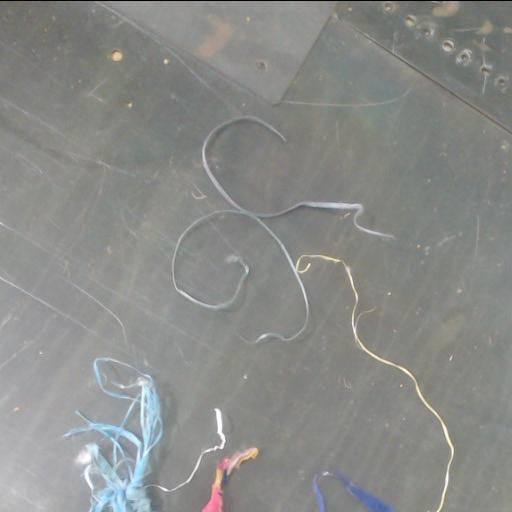cloth: (202, 448, 258, 512)
conveyor belt: (0, 1, 511, 512)
thread: (171, 115, 454, 512), (64, 357, 226, 512), (314, 471, 393, 512)
